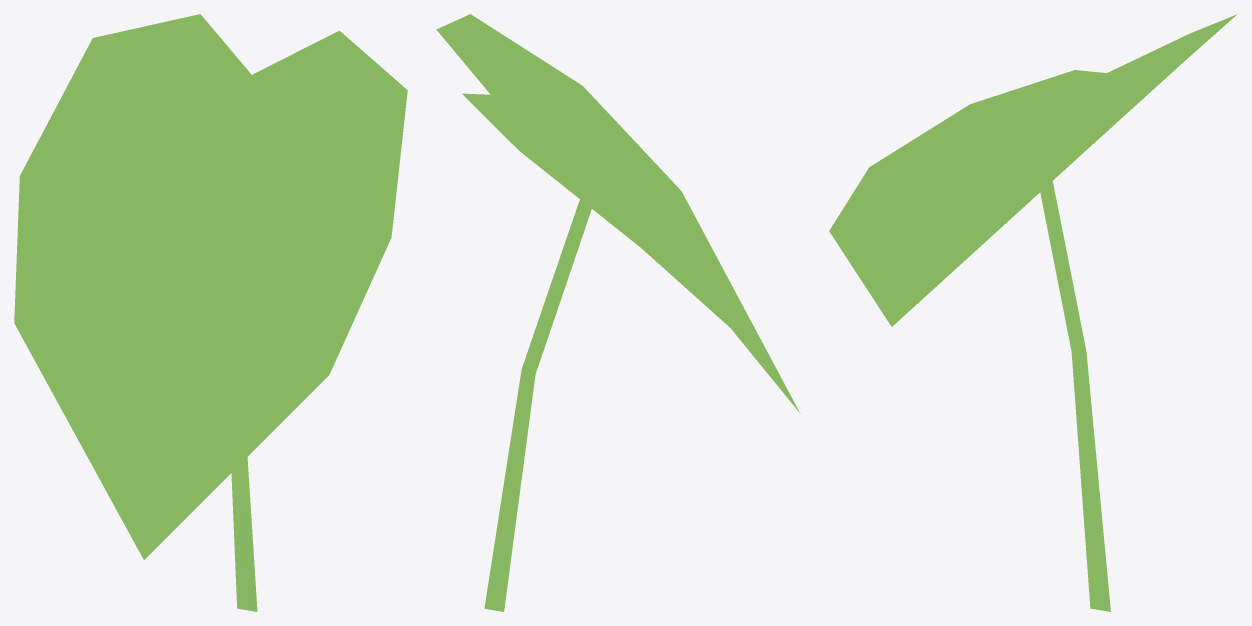
File: Plant_d_OneS_02.fbx
3 renders of one model, left to right at view 1: azimuth 30°, elevation 25°; view 2: azimuth 150°, elevation 25°; view 3: azimuth 270°, elevation 25°, orthographic. The views are drawn at different scales.
Parts seen in each view (by area): view 1: Plant_d_OneS_02; view 2: Plant_d_OneS_02; view 3: Plant_d_OneS_02.
Boxes of the visible parts, x1,y1,x2,y2 form: Plant_d_OneS_02: (14, 14, 407, 611); Plant_d_OneS_02: (436, 14, 800, 611); Plant_d_OneS_02: (829, 14, 1237, 611).
Size of the model in its own units: 0.4066 by 0.6677 by 0.4299.
